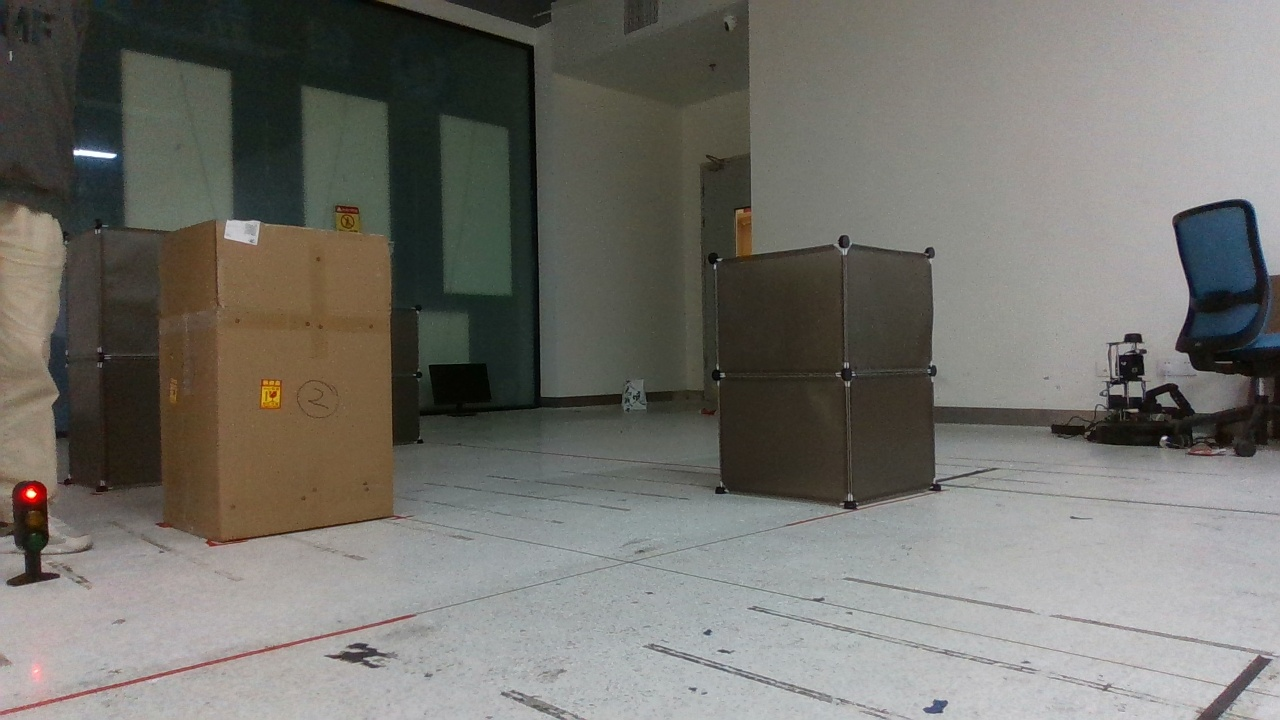red_light: (2, 465, 75, 592)
